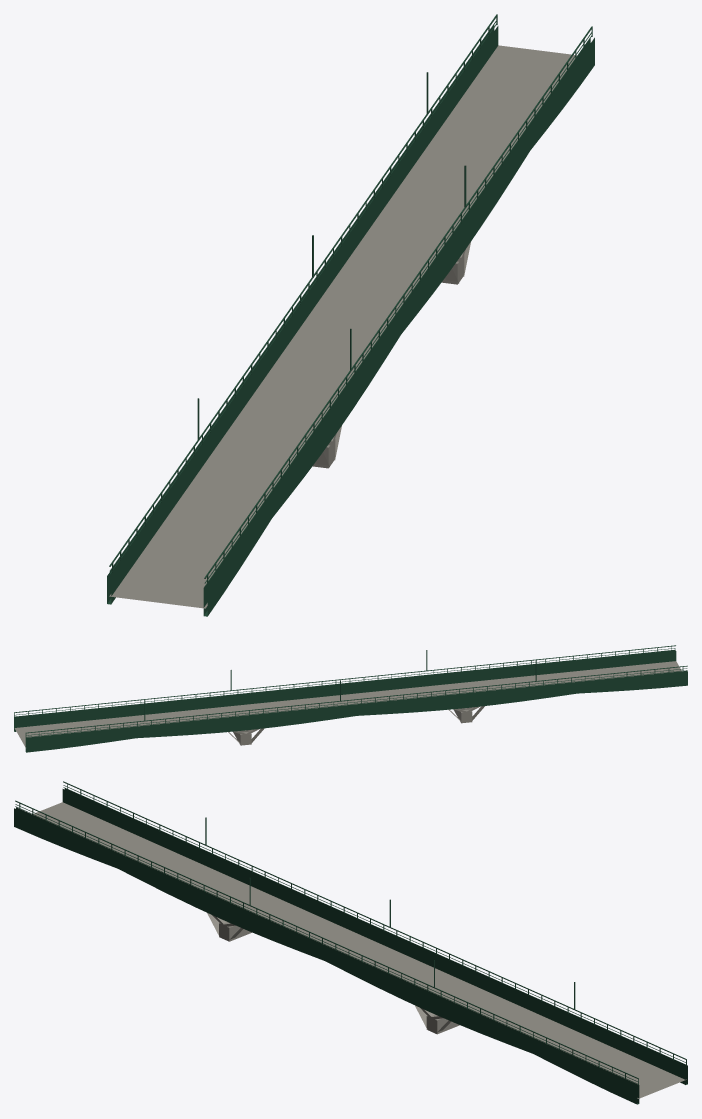
File: footbridge-lo.glb
3 views of the same model, one above another, from view 1: azimuth 30°, elevation 25°; view 2: azimuth 150°, elevation 25°; view 3: azimuth 270°, elevation 25° (orthographic). The views are drawn at different scales.
Parts seen in each view (by area): view 1: lm-footbridge; view 2: lm-footbridge; view 3: lm-footbridge.
Part boxes in pixels (<box>): lm-footbridge: <box>107,14,594,616</box>; lm-footbridge: <box>14,645,687,752</box>; lm-footbridge: <box>14,781,687,1104</box>.
Size of the model in its own units: 73.72 by 8.52 by 70.42.
